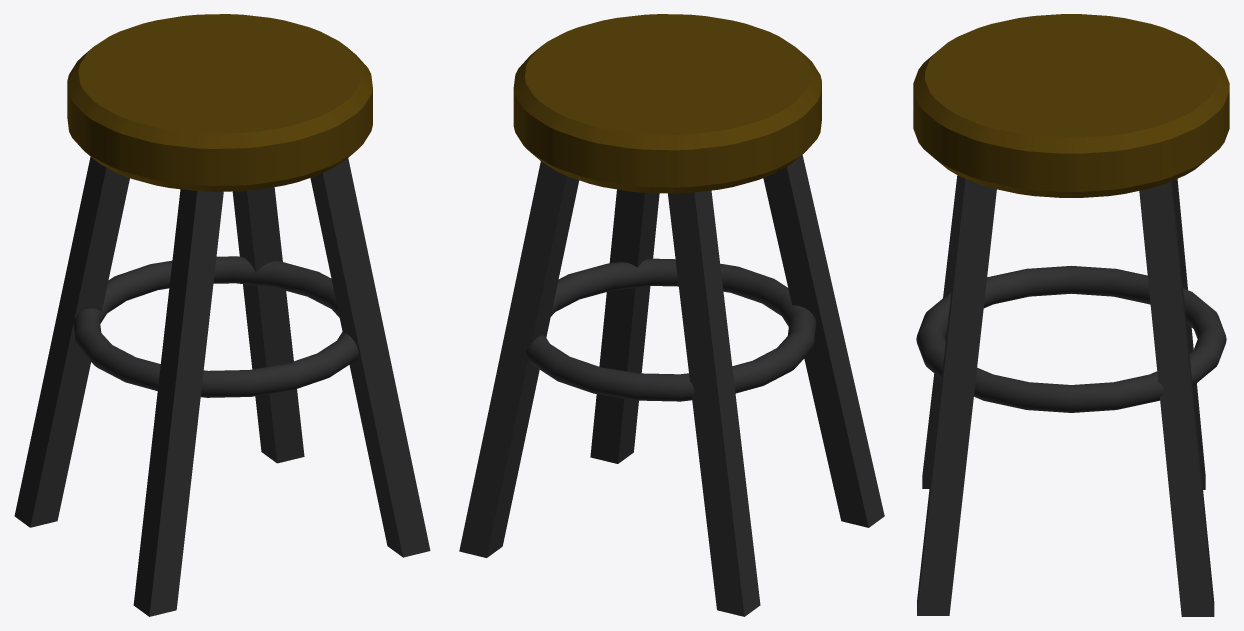
The model's file is BarChair.fbx.
The picture shows the model from 3 angles, left to right: view 1: azimuth 30°, elevation 25°; view 2: azimuth 150°, elevation 25°; view 3: azimuth 270°, elevation 25°; orthographic projection. The views are drawn at different scales.
Parts seen in each view (by area): view 1: group1_pasted__pCube2; view 2: group1_pasted__pCube2; view 3: group1_pasted__pCube2.
Part boxes in pixels (left/top/right/bottom): group1_pasted__pCube2: left=14, top=14, right=430, bottom=616; group1_pasted__pCube2: left=459, top=14, right=884, bottom=616; group1_pasted__pCube2: left=913, top=14, right=1229, bottom=616.
Size of the model in its own units: 71.78 by 111 by 67.75.
